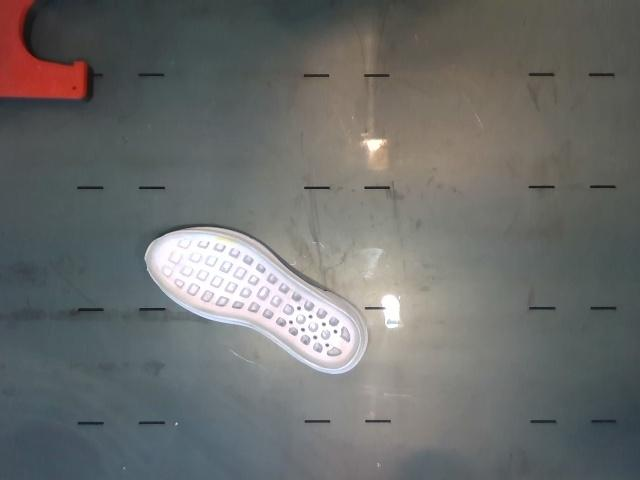shoes: (146, 231, 362, 370)
